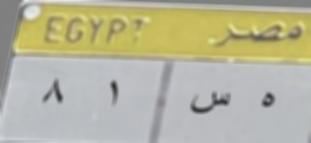1: (97, 73, 124, 110)
8: (35, 73, 67, 109)
haa: (251, 86, 278, 115)
seen: (188, 87, 234, 121)
